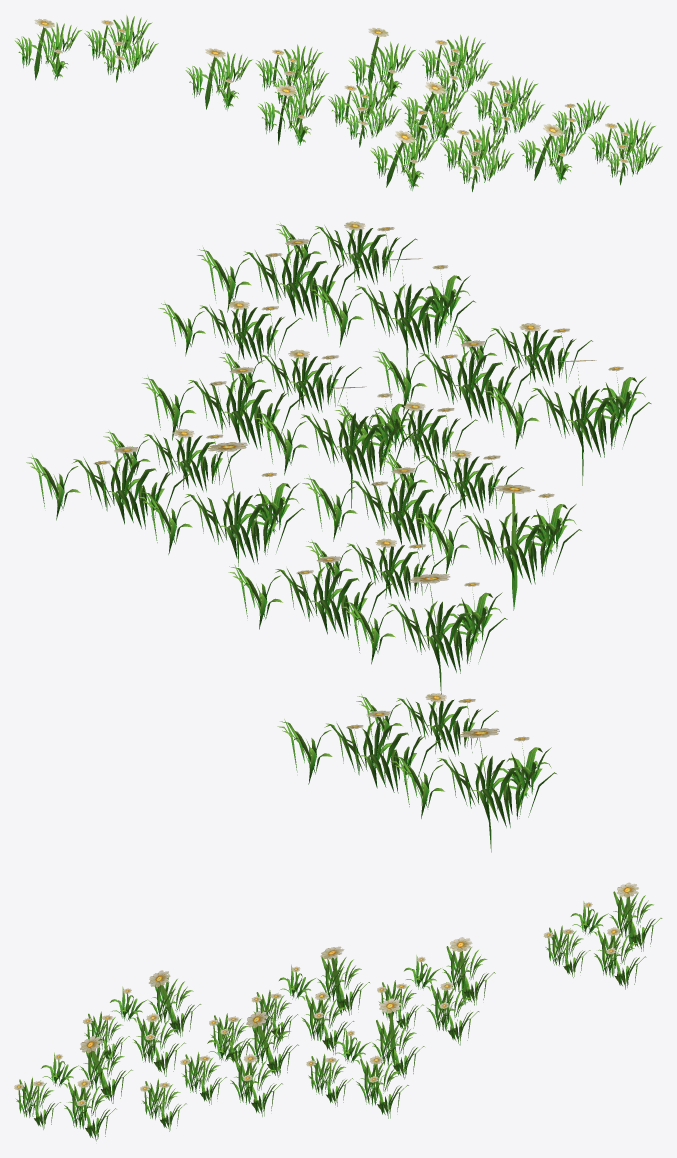
Rendered from huahua_07.fbx.
The picture shows the model from 3 angles, top to bottom: view 1: azimuth 30°, elevation 25°; view 2: azimuth 150°, elevation 25°; view 3: azimuth 270°, elevation 25°; orthographic projection. The views are drawn at different scales.
Parts seen in each view (by area): view 1: polySurface9329; view 2: polySurface9329; view 3: polySurface9329.
Boxes of the visible parts, x1,y1,x2,y2 form: polySurface9329: [14, 15, 662, 191]; polySurface9329: [26, 221, 651, 852]; polySurface9329: [14, 882, 662, 1141].
Bounding box in the file's own units: 1665 × 273 × 1998.
